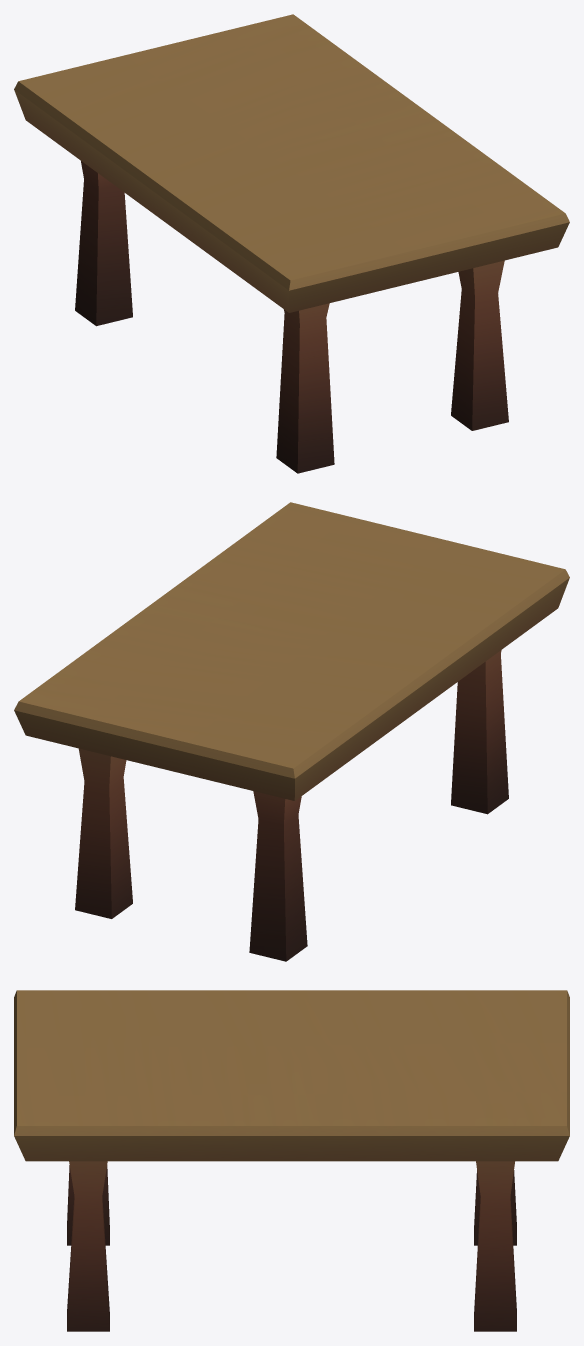
The model's file is SM_Prop_Table_01.fbx.
3 renders of one model, top to bottom at view 1: azimuth 30°, elevation 25°; view 2: azimuth 150°, elevation 25°; view 3: azimuth 270°, elevation 25°, orthographic.
Visible parts, largest first — view 1: SM_Table; view 2: SM_Table; view 3: SM_Table.
Part boxes in pixels (x1,y1,x2,y2): SM_Table: (14,14,569,473); SM_Table: (14,502,569,961); SM_Table: (14,990,569,1331).
Size of the model in its own units: 161 by 120 by 273.
